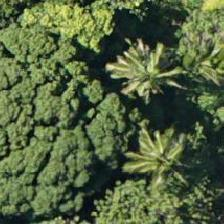coconut_tree: (121, 105, 211, 195), (105, 17, 195, 107)
